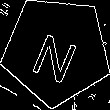N_NE: (29, 20, 84, 82)
